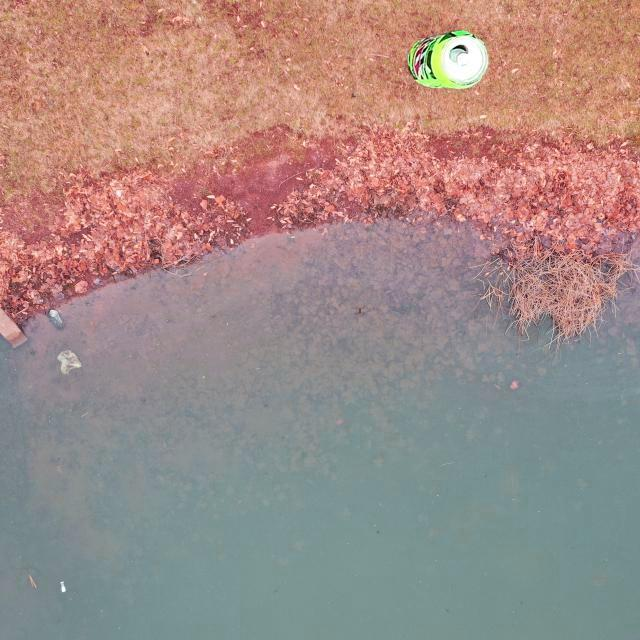Metal: (404, 25, 493, 94)
